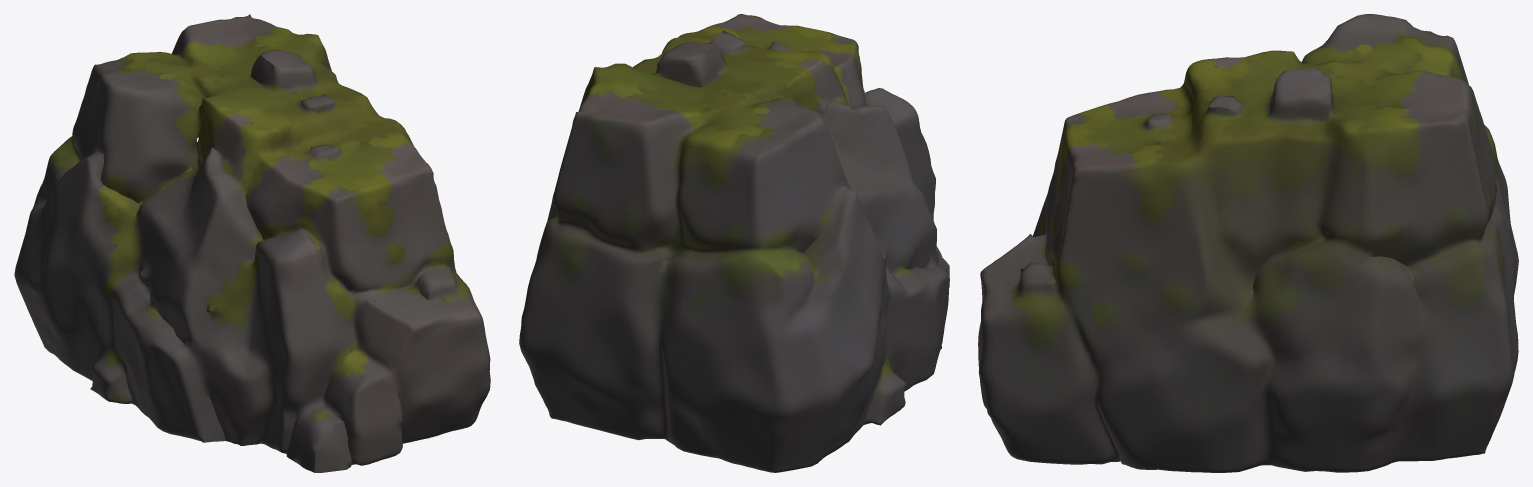
File: boulder_small.glb
The picture shows the model from 3 angles, left to right: view 1: azimuth 30°, elevation 25°; view 2: azimuth 150°, elevation 25°; view 3: azimuth 270°, elevation 25°; orthographic projection. The views are drawn at different scales.
Visible parts, largest first — view 1: tripo_node_f73e055b; view 2: tripo_node_f73e055b; view 3: tripo_node_f73e055b.
Part boxes in pixels (x1,y1,x2,y2): tripo_node_f73e055b: [14, 14, 490, 472]; tripo_node_f73e055b: [519, 14, 949, 472]; tripo_node_f73e055b: [978, 14, 1518, 472].
Size of the model in its own units: 78.14 by 70.65 by 99.66.
1 material, 1 textured.
